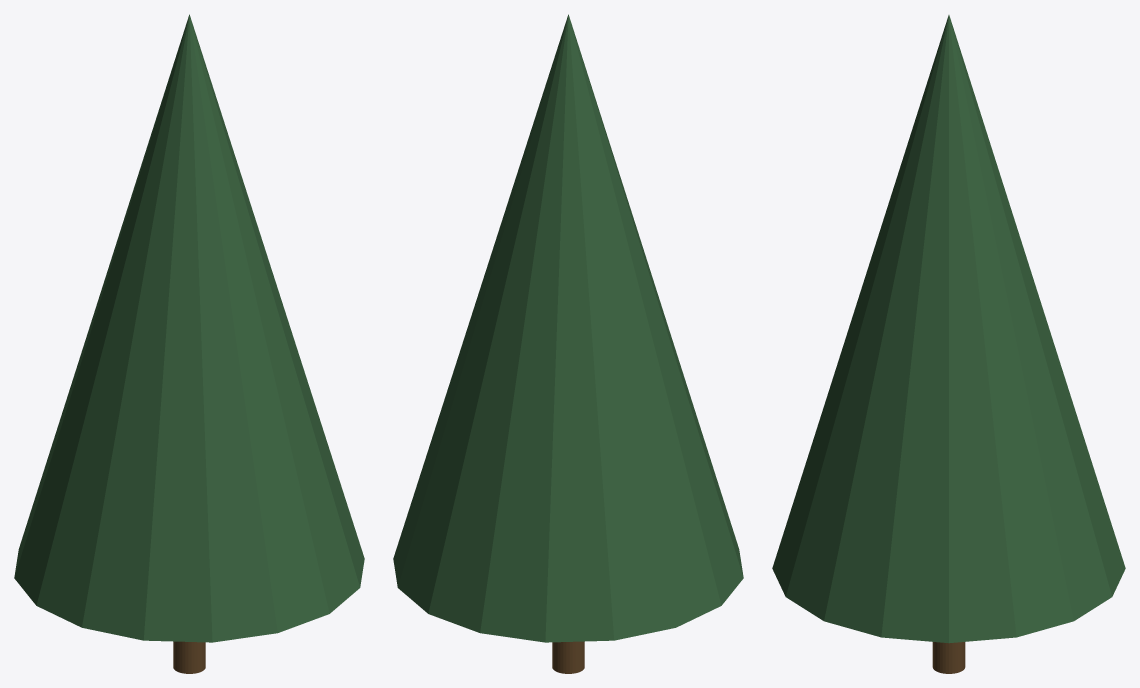
File: Conifer.glb
3 renders of one model, left to right at view 1: azimuth 30°, elevation 25°; view 2: azimuth 150°, elevation 25°; view 3: azimuth 270°, elevation 25°, orthographic.
Parts seen in each view (by area): view 1: Crown, Trunk; view 2: Crown, Trunk; view 3: Crown, Trunk.
Boxes of the visible parts, bbox=[...] form: Crown: bbox=[14, 14, 364, 642]; Trunk: bbox=[173, 641, 205, 673]; Crown: bbox=[393, 14, 743, 642]; Trunk: bbox=[552, 641, 584, 673]; Crown: bbox=[772, 15, 1125, 643]; Trunk: bbox=[932, 642, 965, 673].
Size of the model in its own units: 2.6 by 5.3 by 2.6.
